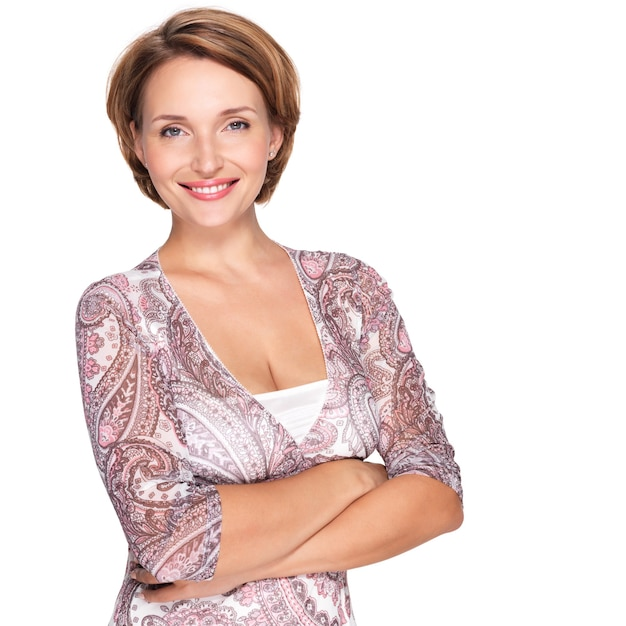young: (113, 14, 294, 252)
